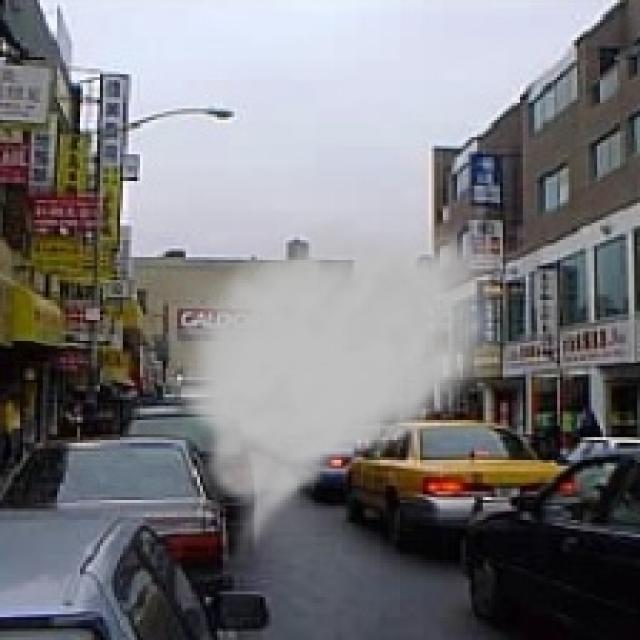Smoke: (157, 212, 526, 572)
